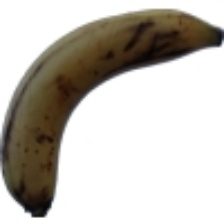banana: (43, 14, 206, 173)
